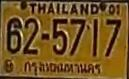1: (92, 19, 97, 56)
2: (23, 18, 38, 54)
5: (52, 18, 67, 54)
6: (6, 17, 21, 53)
7: (69, 18, 85, 55), (105, 18, 120, 56)
BKK: (22, 59, 103, 78)
